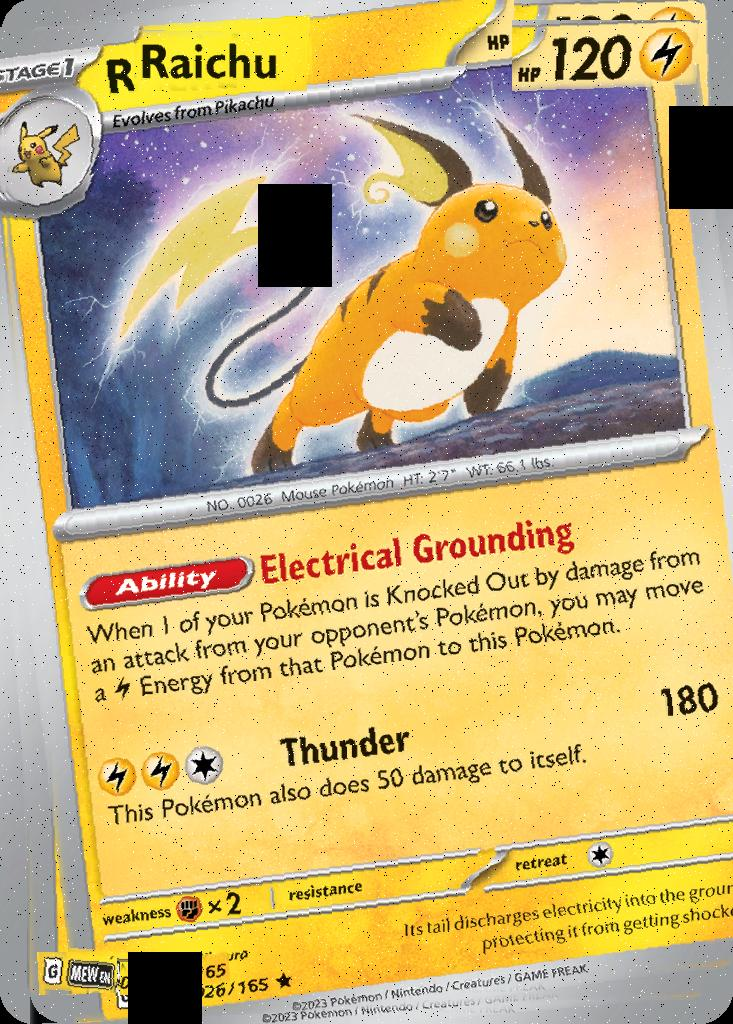card: (0, 0, 733, 1024)
hp: (513, 21, 702, 95)
name: (134, 31, 310, 92)
set num: (121, 963, 202, 996)
set symbol: (38, 952, 118, 995)
